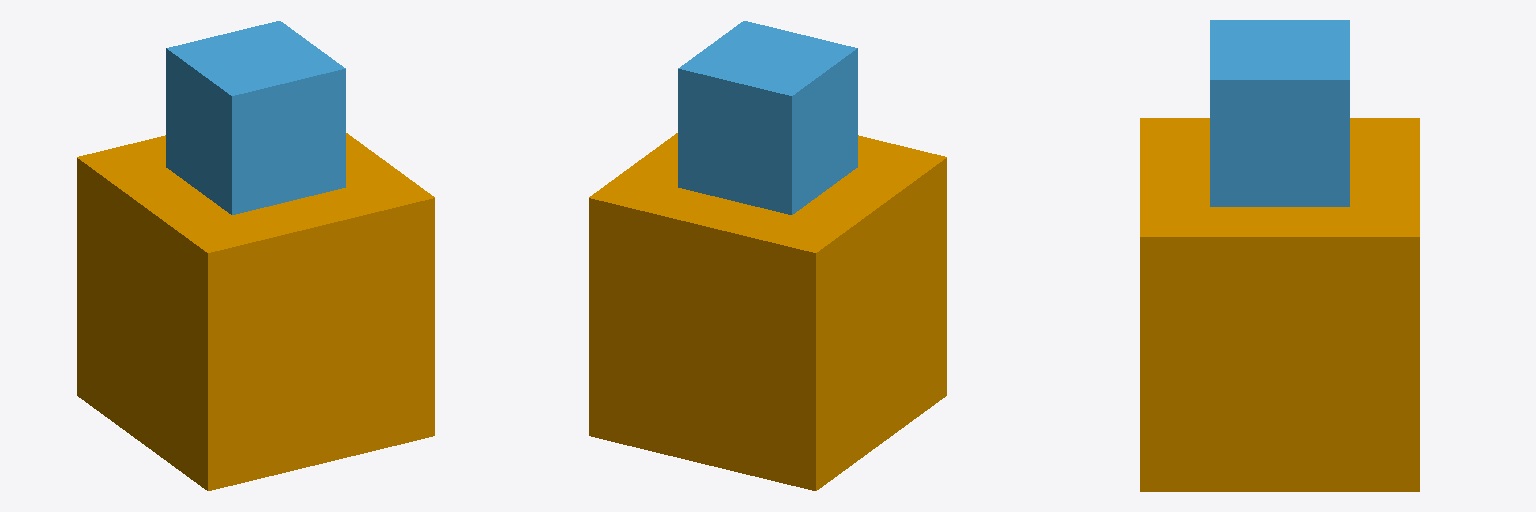
robot.urdf — test_fixed_only:
<?xml version="1.0" encoding="UTF-8"?>
<!-- 2 links joined by 1 fixed joint. The importer writes no PhysX-specific data for such an asset,
     so its "Physics" variant set offers only "none" and "physics" - no "physx". -->
<robot name="test_fixed_only">

  <link name="base_link">
    <inertial>
      <mass value="1.0"/>
      <inertia ixx="0.1" ixy="0.0" ixz="0.0" iyy="0.1" iyz="0.0" izz="0.1"/>
    </inertial>
    <visual>
      <geometry><box size="0.2 0.2 0.2"/></geometry>
    </visual>
    <collision>
      <geometry><box size="0.2 0.2 0.2"/></geometry>
    </collision>
  </link>

  <link name="tool_link">
    <inertial>
      <mass value="0.5"/>
      <inertia ixx="0.01" ixy="0.0" ixz="0.0" iyy="0.01" iyz="0.0" izz="0.01"/>
    </inertial>
    <visual>
      <geometry><box size="0.1 0.1 0.1"/></geometry>
    </visual>
    <collision>
      <geometry><box size="0.1 0.1 0.1"/></geometry>
    </collision>
  </link>

  <joint name="tool_joint" type="fixed">
    <parent link="base_link"/>
    <child link="tool_link"/>
    <origin xyz="0 0 0.15"/>
  </joint>

</robot>

--- What the picture shows (computed from the rendered views, not written in the file) ---
Views: 3 orthographic renders of the robot side by side, from view 1: azimuth 30°, elevation 25°; view 2: azimuth 150°, elevation 25°; view 3: azimuth 270°, elevation 25°.
Robot: test_fixed_only — 2 links, 1 joints (1 fixed); root link base_link; default pose: every joint at zero.
Visible links, largest first — view 1: base_link, tool_link; view 2: base_link, tool_link; view 3: base_link, tool_link.
Boxes of the visible links, x1,y1,x2,y2 form: base_link: (77, 133, 434, 490); tool_link: (166, 21, 345, 214); base_link: (589, 133, 946, 490); tool_link: (678, 21, 857, 214); base_link: (1140, 118, 1419, 491); tool_link: (1210, 20, 1349, 206).
Size in the robot's own frame: 0.2 by 0.2 by 0.3 metres.
Geometry: primitives only (box / cylinder / sphere), no mesh files.
